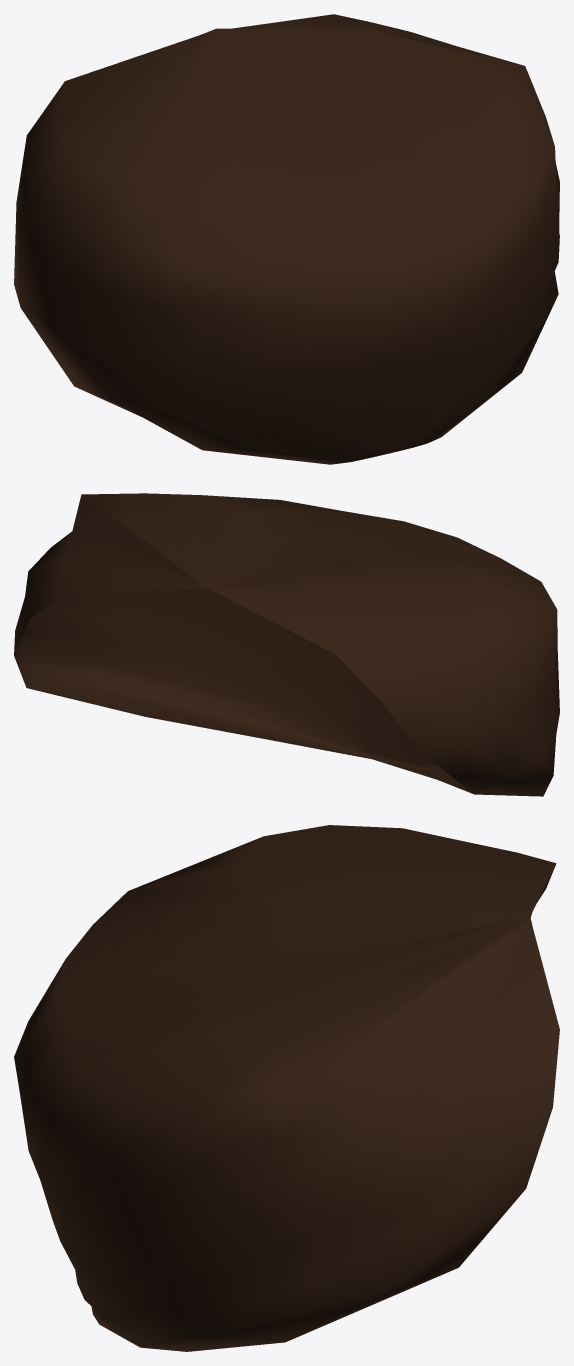
File: abdomen_6_tergite.obj
3 views of the same model, one above another, from view 1: azimuth 30°, elevation 25°; view 2: azimuth 150°, elevation 25°; view 3: azimuth 270°, elevation 25° (orthographic). The views are drawn at different scales.
Bounding box in the file's own units: 0.071 × 0.0408 × 0.0532.
